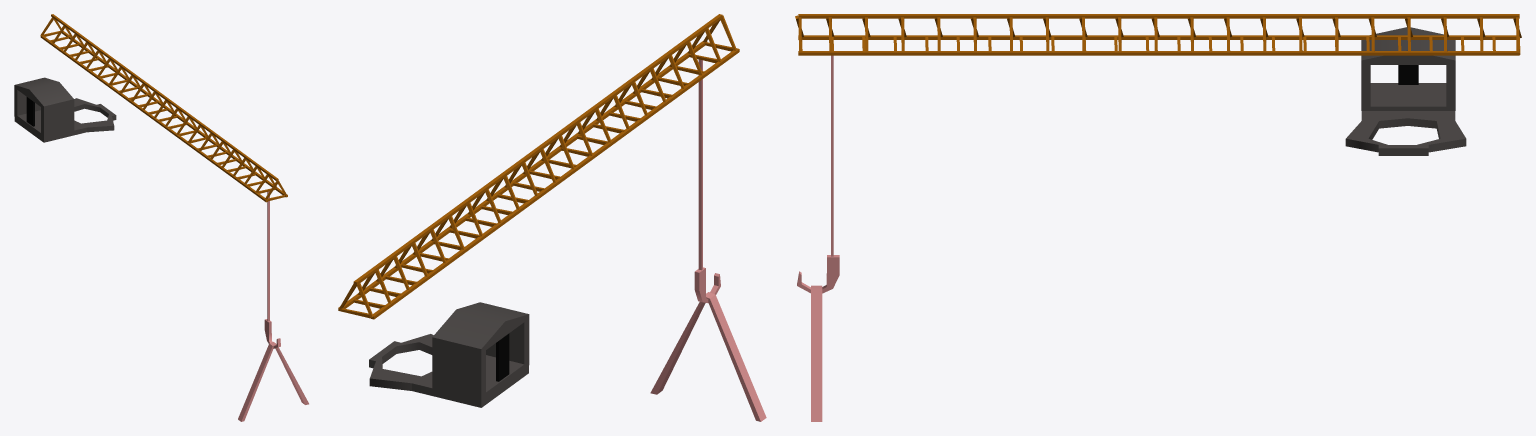
The model's file is Crane_Rotating_Part.fbx.
3 views of the same model, side by side, from view 1: azimuth 30°, elevation 25°; view 2: azimuth 150°, elevation 25°; view 3: azimuth 270°, elevation 25° (orthographic). The views are drawn at different scales.
Parts seen in each view (by area): view 1: Kran_Över_Del1; view 2: Kran_Över_Del1; view 3: Kran_Över_Del1.
Part boxes in pixels (bbox=[...]): Kran_Över_Del1: bbox=[14, 14, 308, 421]; Kran_Över_Del1: bbox=[338, 14, 766, 421]; Kran_Över_Del1: bbox=[795, 14, 1521, 421].
Bounding box in the file's own units: 53.03 × 129 × 223.
